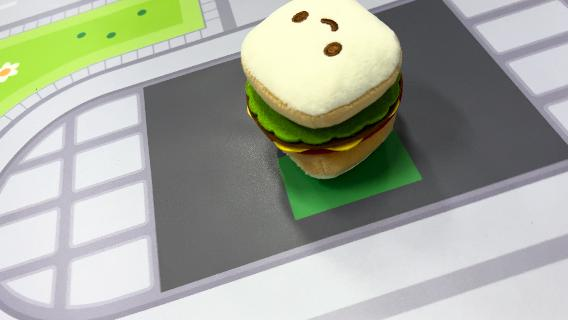sandwich: (239, 1, 407, 181)
